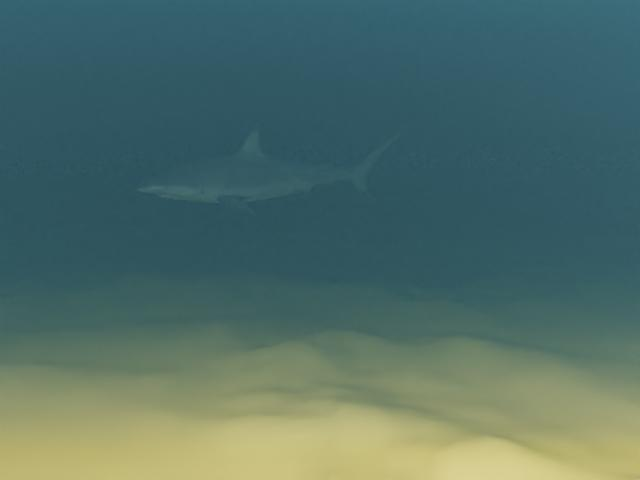Carribean Shark.001: (135, 125, 409, 215)
